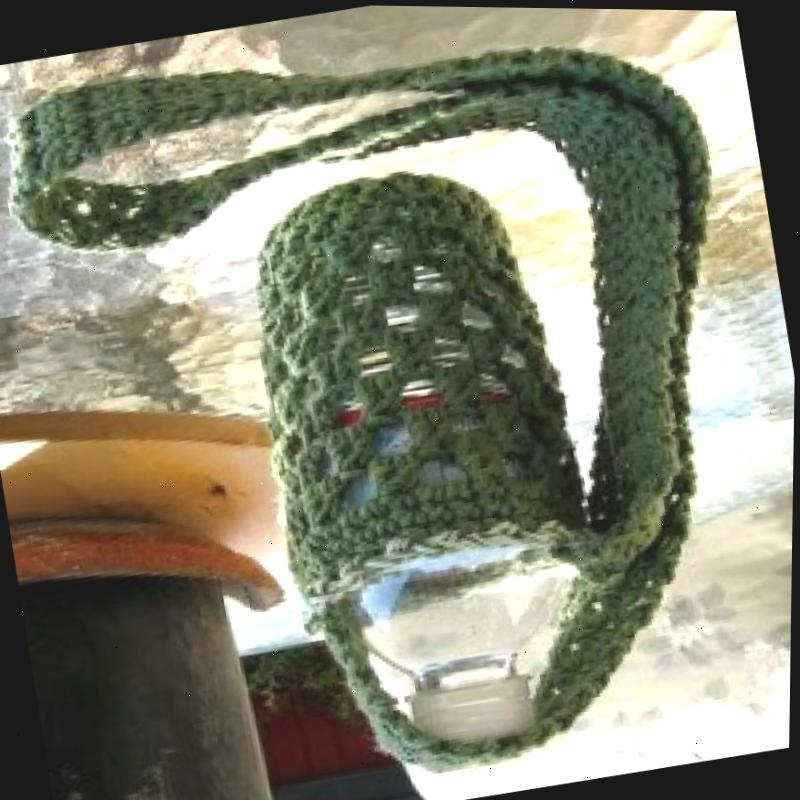botella: (324, 525, 612, 769)
